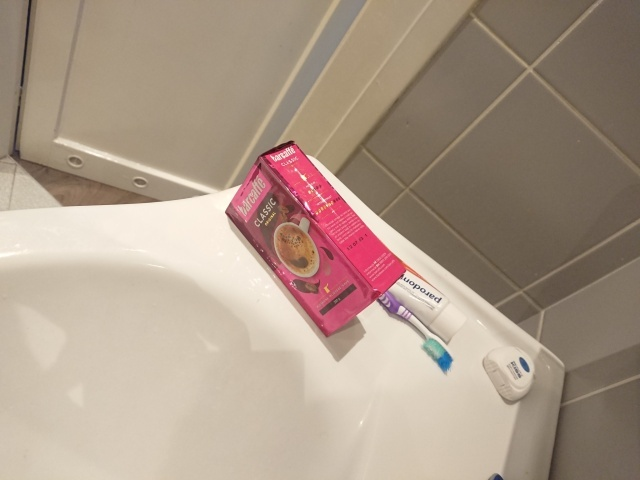Barcaffe Classic Original 225g: (223, 138, 409, 339)
